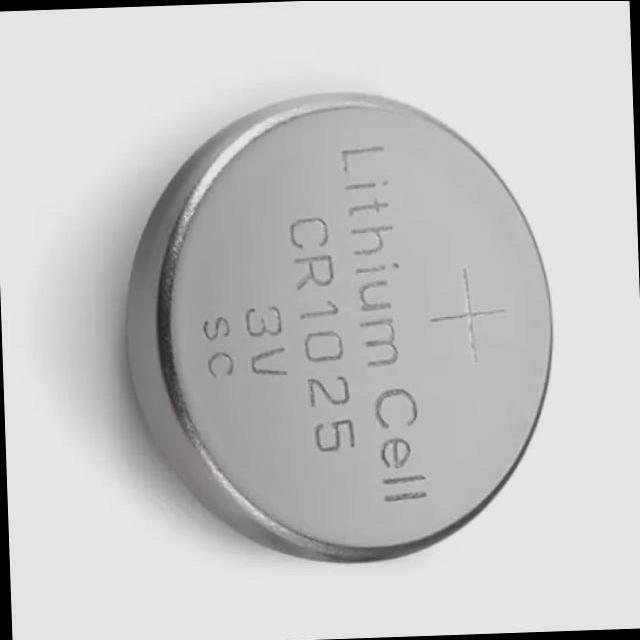COIN: (117, 84, 562, 572)
